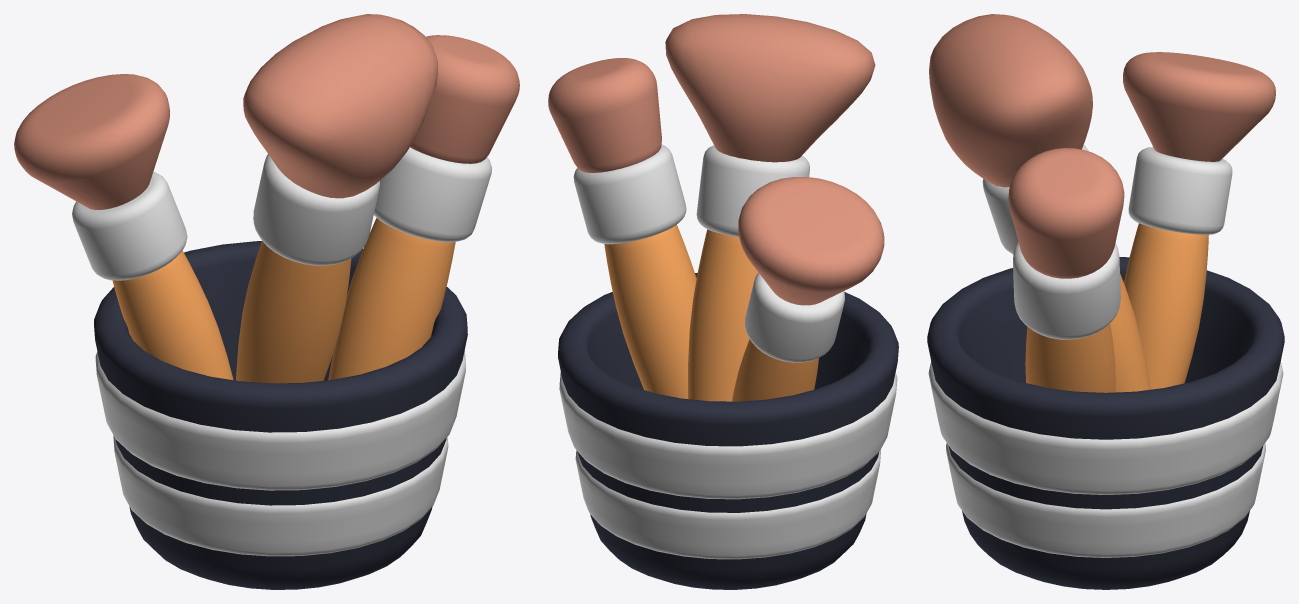
The model's file is Brush.glb.
3 renders of one model, left to right at view 1: azimuth 30°, elevation 25°; view 2: azimuth 150°, elevation 25°; view 3: azimuth 270°, elevation 25°, orthographic. The views are drawn at different scales.
Parts seen in each view (by area): view 1: Cylinder.068, Cube.013, Cylinder.126, Cylinder.125, Cylinder.067, Cylinder.062, Cylinder.060, Cylinder.064, Cylinder.065, Cylinder.061, Cylinder.063, Cylinder.066; view 2: Cylinder.068, Cube.013, Cylinder.126, Cylinder.067, Cylinder.125, Cylinder.062, Cylinder.064, Cylinder.060, Cylinder.063, Cylinder.066, Cylinder.061, Cylinder.065; view 3: Cylinder.068, Cube.013, Cylinder.126, Cylinder.125, Cylinder.067, Cylinder.064, Cylinder.065, Cylinder.066, Cylinder.063, Cylinder.062, Cylinder.060, Cylinder.061.
Boxes of the visible parts, x1=… form: Cylinder.068: x1=94, y1=241, x2=467, y2=589; Cube.013: x1=243, y1=14, x2=437, y2=198; Cylinder.126: x1=95, y1=351, x2=465, y2=490; Cylinder.125: x1=113, y1=435, x2=448, y2=556; Cylinder.067: x1=14, y1=74, x2=169, y2=209; Cylinder.062: x1=328, y1=218, x2=455, y2=380; Cylinder.060: x1=236, y1=241, x2=351, y2=383; Cylinder.064: x1=410, y1=35, x2=519, y2=163; Cylinder.065: x1=112, y1=250, x2=233, y2=380; Cylinder.061: x1=253, y1=154, x2=379, y2=265; Cylinder.063: x1=374, y1=147, x2=491, y2=242; Cylinder.066: x1=72, y1=171, x2=187, y2=280; Cylinder.068: x1=558, y1=273, x2=898, y2=589; Cube.013: x1=665, y1=14, x2=875, y2=162; Cylinder.126: x1=559, y1=371, x2=897, y2=499; Cylinder.067: x1=738, y1=177, x2=884, y2=305; Cylinder.125: x1=575, y1=449, x2=880, y2=559; Cylinder.062: x1=604, y1=225, x2=696, y2=398; Cylinder.064: x1=548, y1=58, x2=661, y2=172; Cylinder.060: x1=688, y1=229, x2=758, y2=401; Cylinder.063: x1=573, y1=144, x2=686, y2=244; Cylinder.066: x1=745, y1=272, x2=844, y2=362; Cylinder.061: x1=696, y1=145, x2=809, y2=237; Cylinder.065: x1=732, y1=339, x2=818, y2=401; Cylinder.068: x1=927, y1=257, x2=1284, y2=589; Cube.013: x1=929, y1=14, x2=1092, y2=187; Cylinder.126: x1=928, y1=361, x2=1283, y2=494; Cylinder.125: x1=946, y1=443, x2=1265, y2=557; Cylinder.067: x1=1123, y1=52, x2=1275, y2=161; Cylinder.064: x1=1008, y1=148, x2=1124, y2=278; Cylinder.065: x1=1124, y1=223, x2=1208, y2=389; Cylinder.066: x1=1128, y1=147, x2=1232, y2=234; Cylinder.063: x1=1013, y1=241, x2=1120, y2=339; Cylinder.062: x1=1025, y1=323, x2=1115, y2=392; Cylinder.060: x1=1110, y1=273, x2=1150, y2=392; Cylinder.061: x1=982, y1=145, x2=1088, y2=254.
Bounding box in the file's own units: 3.1 × 3.82 × 2.41.
